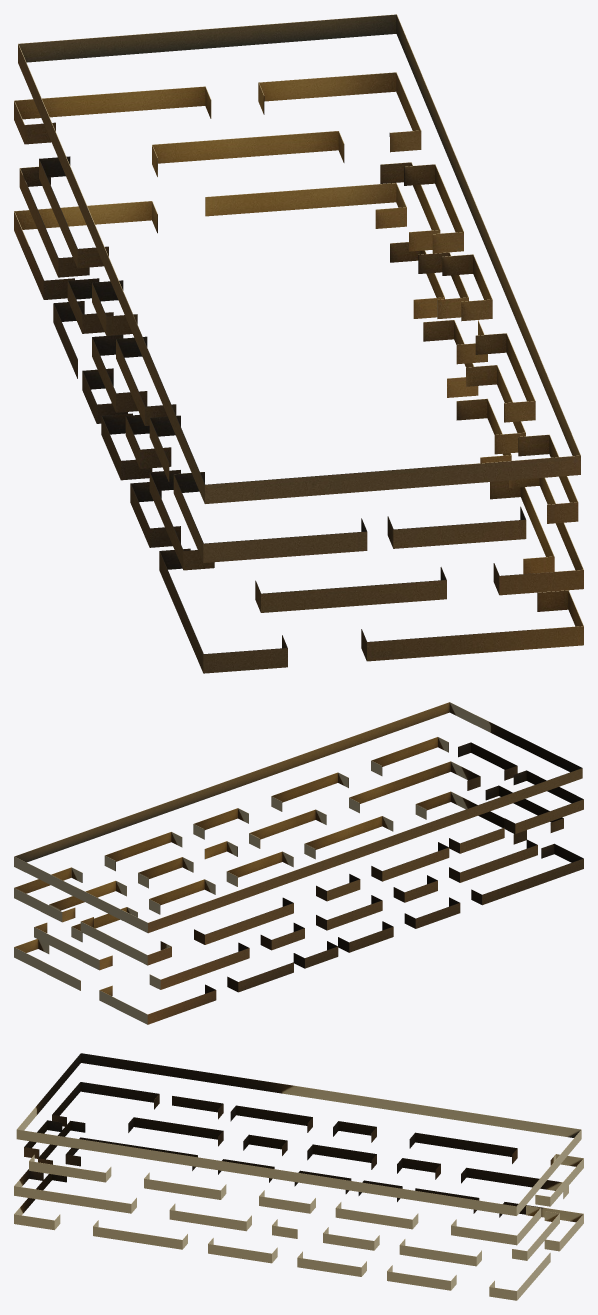
Rendered from Balustrade_03.fbx.
The picture shows the model from 3 angles, top to bottom: view 1: azimuth 30°, elevation 25°; view 2: azimuth 150°, elevation 25°; view 3: azimuth 270°, elevation 25°; orthographic projection. The views are drawn at different scales.
Parts seen in each view (by area): view 1: Balustrade_03; view 2: Balustrade_03; view 3: Balustrade_03.
Part boxes in pixels (bbox=[...]): Balustrade_03: bbox=[14, 14, 583, 673]; Balustrade_03: bbox=[14, 702, 583, 1024]; Balustrade_03: bbox=[14, 1053, 583, 1300].
Size of the model in its own units: 34.18 by 9.77 by 53.51.
1 material, 1 textured.
